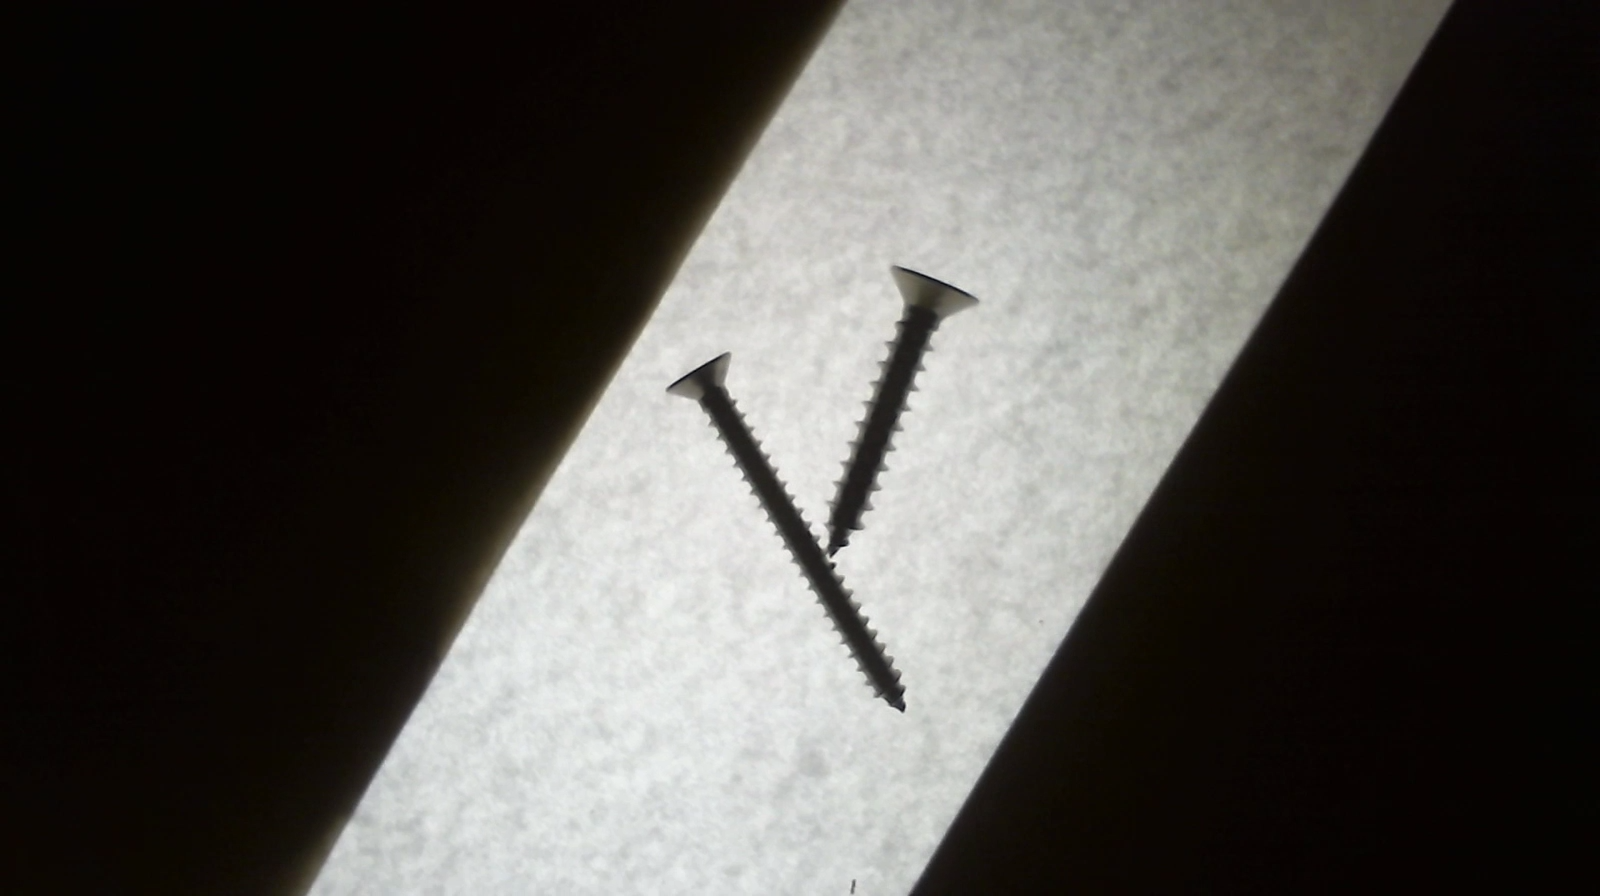S001: (819, 251, 992, 552)
S002: (670, 349, 918, 724)
